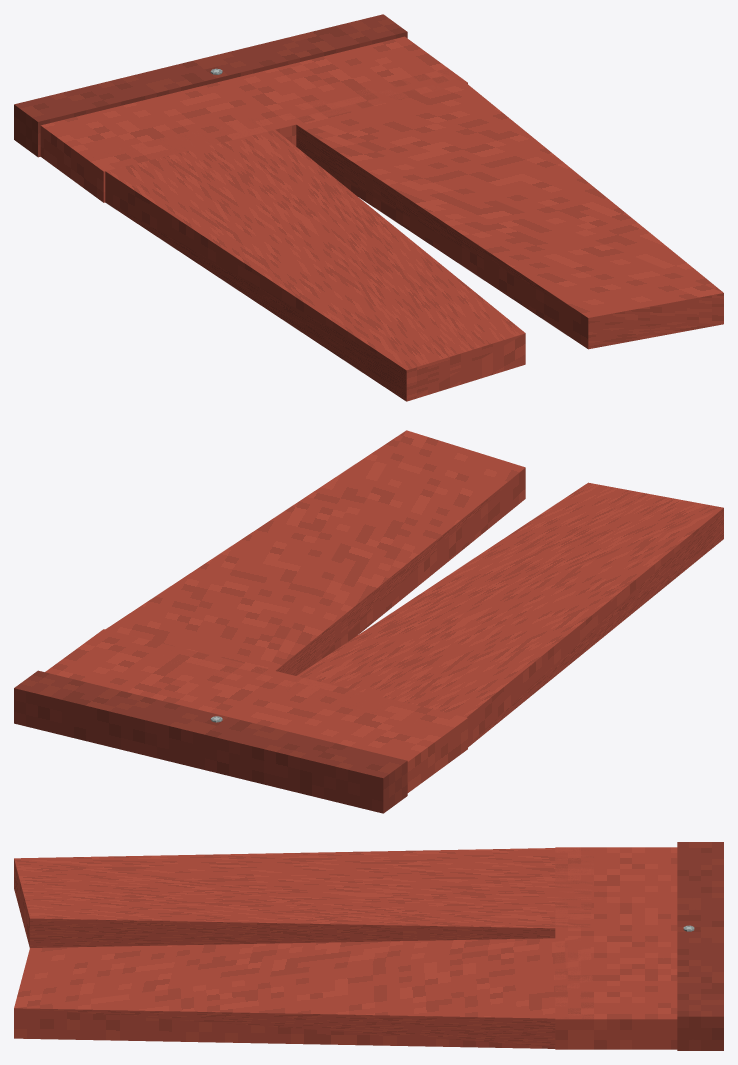
The model's file is santa_pants.glb.
3 renders of one model, top to bottom at view 1: azimuth 30°, elevation 25°; view 2: azimuth 150°, elevation 25°; view 3: azimuth 270°, elevation 25°, orthographic. The views are drawn at different scales.
Visible parts, largest first — view 1: block_leg 1, block_leg -1, block_seat, block_waistband; view 2: block_leg -1, block_leg 1, block_seat, block_waistband; view 3: block_leg 1, block_leg -1, block_seat, block_waistband.
Part boxes in pixels (x1=…): block_leg 1: x1=278, y1=68, x2=723, y2=349; block_leg -1: x1=86, y1=118, x2=525, y2=401; block_seat: x1=40, y1=36, x2=467, y2=202; block_waistband: x1=14, y1=14, x2=407, y2=157; block_leg -1: x1=278, y1=482, x2=723, y2=747; block_leg 1: x1=105, y1=430, x2=525, y2=683; block_seat: x1=45, y1=629, x2=467, y2=792; block_waistband: x1=14, y1=670, x2=407, y2=813; block_leg 1: x1=14, y1=937, x2=593, y2=1048; block_leg -1: x1=14, y1=847, x2=594, y2=947; block_seat: x1=555, y1=847, x2=677, y2=1049; block_waistband: x1=677, y1=842, x2=723, y2=1050.
Bounding box in the file's own units: 0.1972 × 0.0188 × 0.3389.
1 material, 1 textured.
